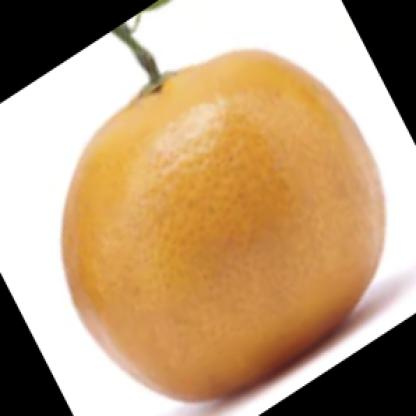fresh: (63, 48, 388, 399)
